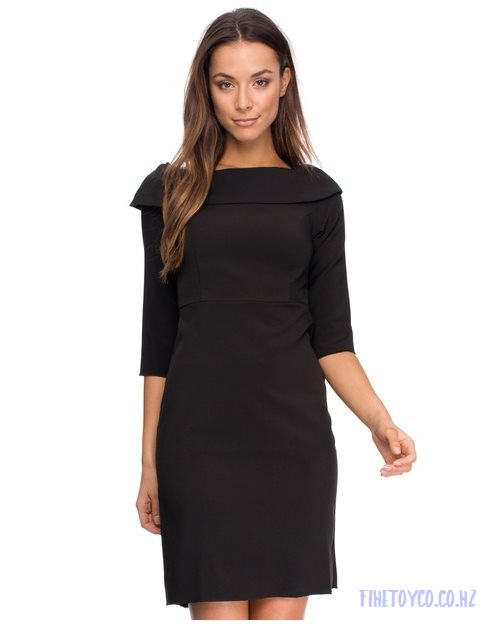S_dress: (117, 146, 373, 579)
